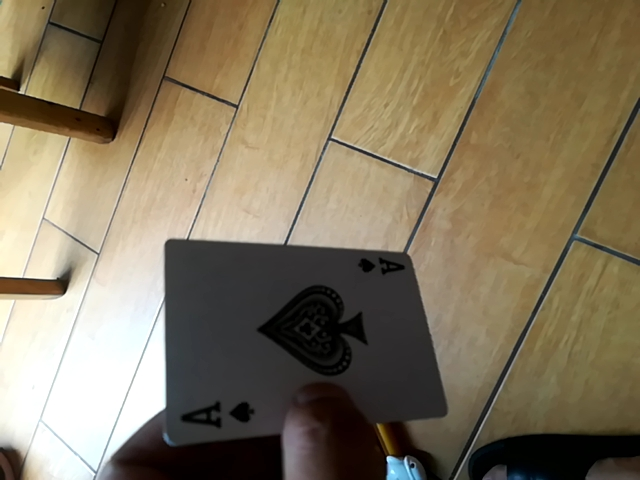ht a: (168, 238, 431, 448)
